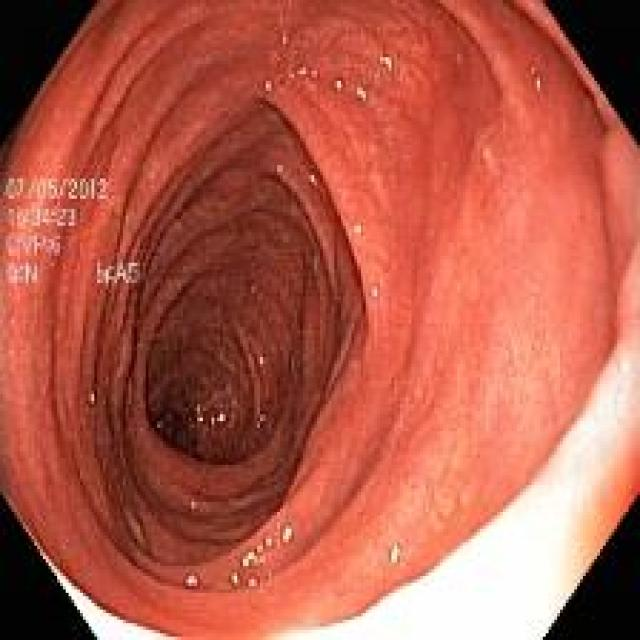ulcerative-colitis-grade-1: (5, 3, 634, 635)
